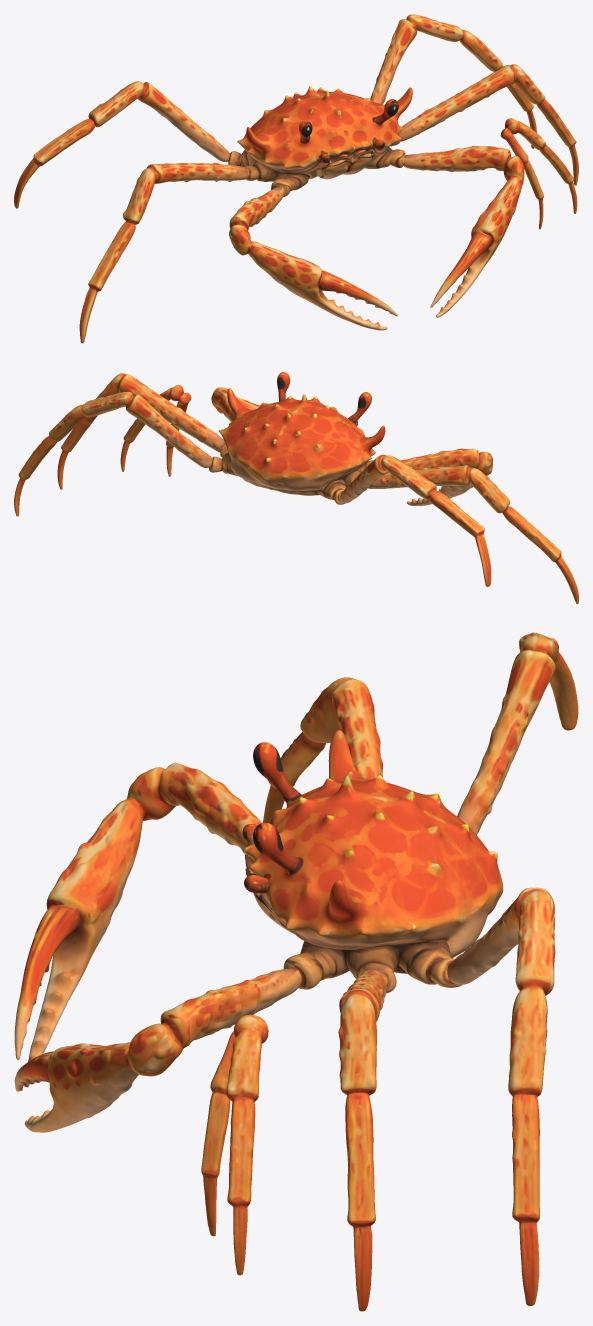
Rendered from Cangrejo-araña.glb.
3 views of the same model, one above another, from view 1: azimuth 30°, elevation 25°; view 2: azimuth 150°, elevation 25°; view 3: azimuth 270°, elevation 25° (orthographic). The views are drawn at different scales.
Visible parts, largest first — view 1: tripo_node_3640c1af-646b-4b18-b02b-9f8725592e33; view 2: tripo_node_3640c1af-646b-4b18-b02b-9f8725592e33; view 3: tripo_node_3640c1af-646b-4b18-b02b-9f8725592e33.
Part boxes in pixels (x1,y1,x2,y2): tripo_node_3640c1af-646b-4b18-b02b-9f8725592e33: [14, 14, 578, 343]; tripo_node_3640c1af-646b-4b18-b02b-9f8725592e33: [14, 372, 578, 603]; tripo_node_3640c1af-646b-4b18-b02b-9f8725592e33: [14, 632, 578, 1311].
Bounding box in the file's own units: 0.9999 × 0.323 × 0.491.
Materials: 1 (1 with a texture image).
